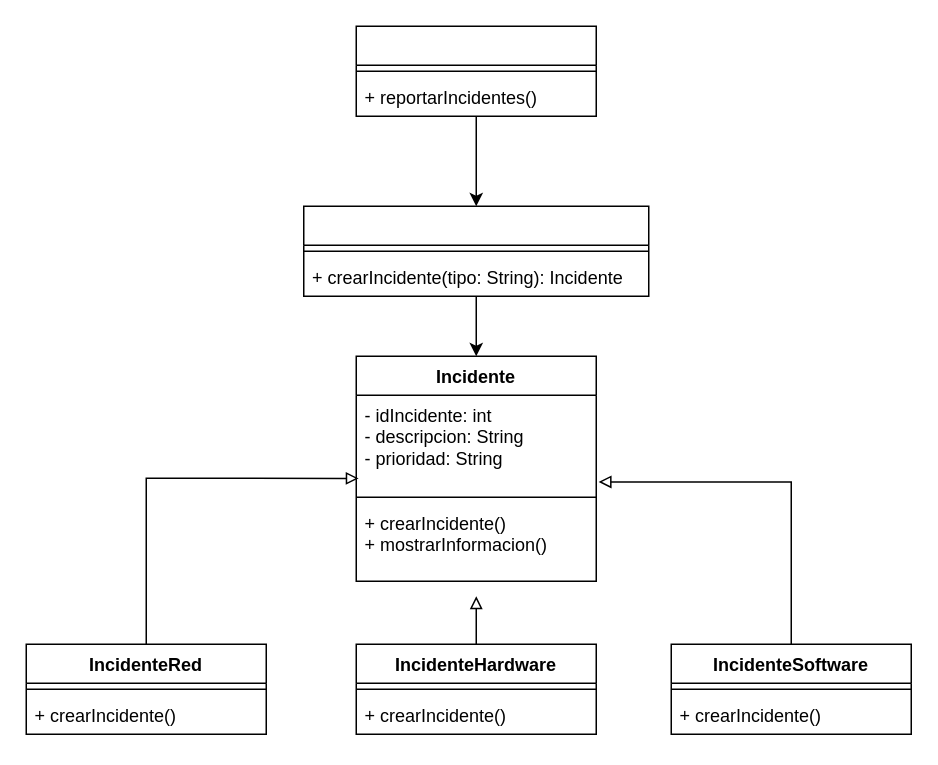
This 938x765 diagram has some shape labels left out. The box of each missing label's shape, as (x1, y1, x2, y2) in pixels:
FabricaIncidentes: (302, 205, 649, 296)
UsuarioFinal: (355, 25, 596, 116)
